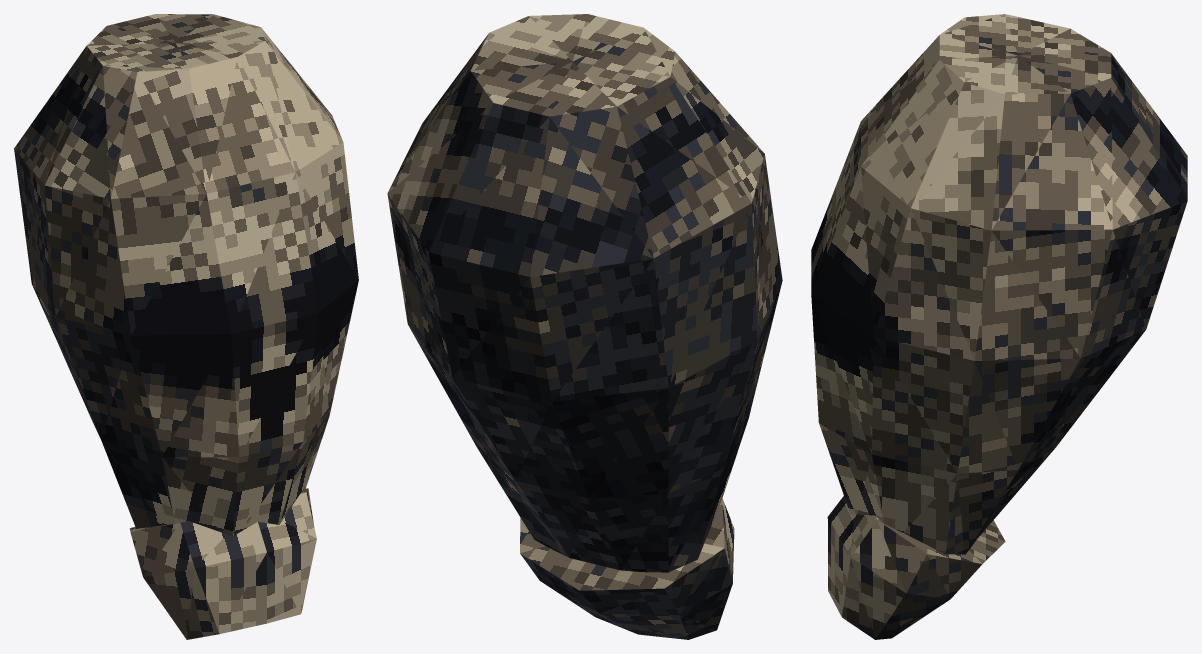
The model's file is SM_Prop_Skull_01_Charred.glb.
The picture shows the model from 3 angles, left to right: view 1: azimuth 30°, elevation 25°; view 2: azimuth 150°, elevation 25°; view 3: azimuth 270°, elevation 25°; orthographic projection. The views are drawn at different scales.
Parts seen in each view (by area): view 1: skull, jaw; view 2: skull, jaw; view 3: skull, jaw.
Boxes of the visible parts, x1,y1,x2,y2 form: skull: (14,14,358,536); jaw: (129,488,316,639); skull: (387,14,782,572); jaw: (520,498,734,639); skull: (811,14,1187,554); jaw: (827,496,1005,639).
Bounding box in the file's own units: 0.2 × 0.3657 × 0.2176.
1 material, 1 textured.
